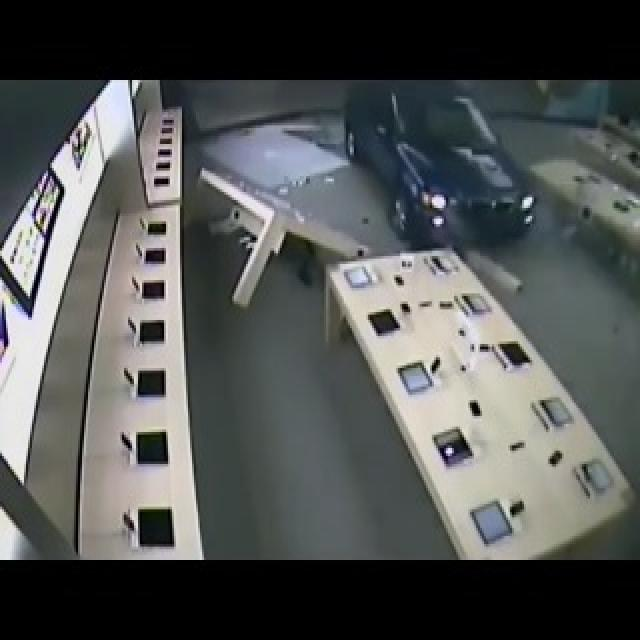burglary: (332, 80, 553, 267)
